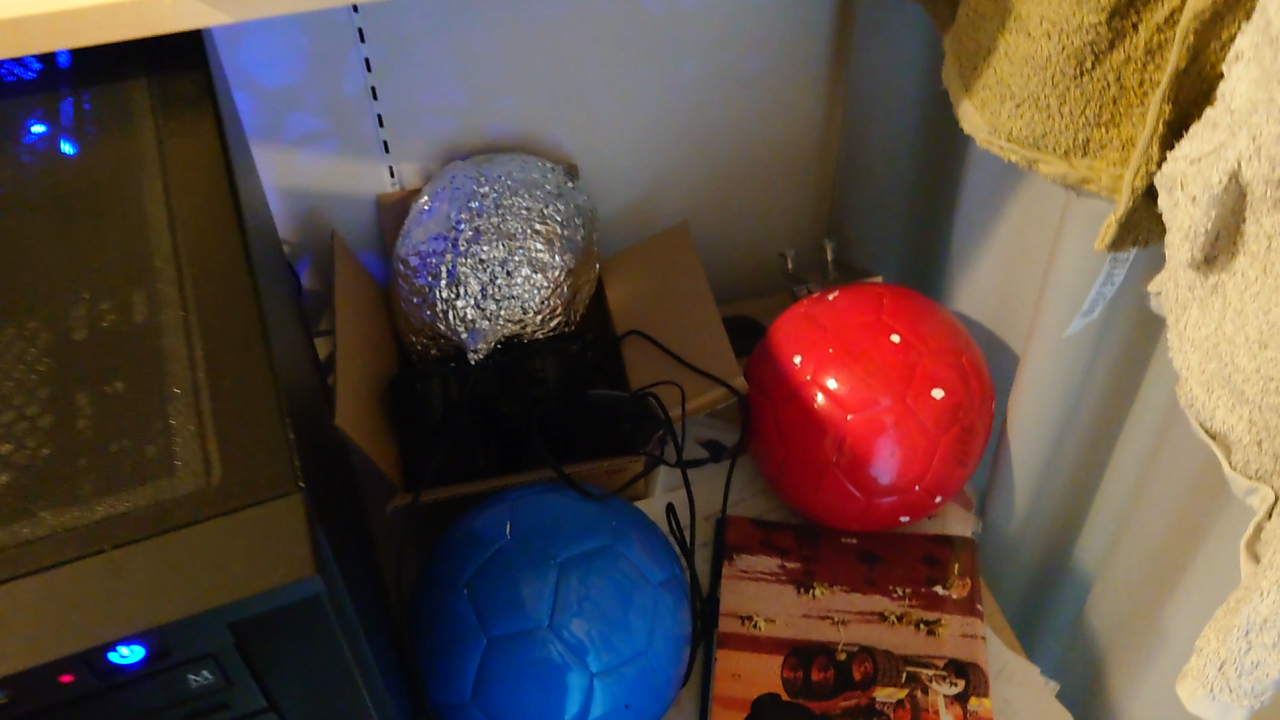blue: (416, 497, 679, 715)
red: (750, 282, 994, 533)
